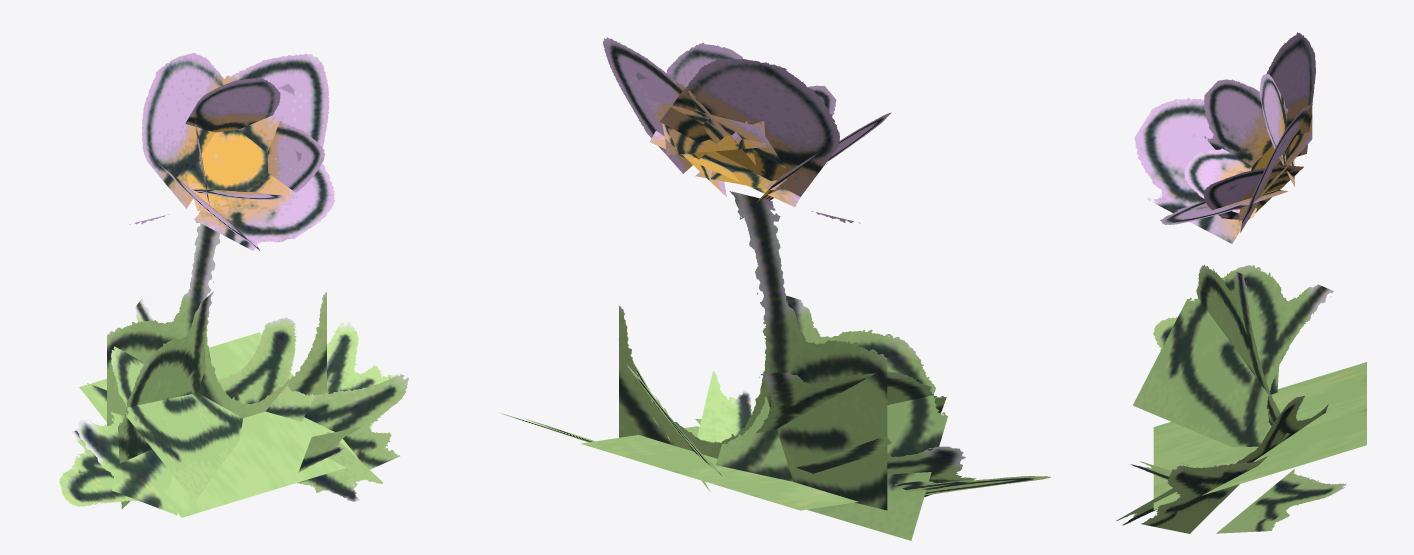
Rendered from testFlower.fbx.
3 renders of one model, left to right at view 1: azimuth 30°, elevation 25°; view 2: azimuth 150°, elevation 25°; view 3: azimuth 270°, elevation 25°, orthographic. The views are drawn at different scales.
Visible parts, largest first — view 1: Flower; view 2: Flower; view 3: Flower.
Boxes of the visible parts, x1,y1,x2,y2 form: Flower: (59, 53, 408, 517); Flower: (500, 37, 1050, 540); Flower: (1116, 32, 1366, 533).
Bounding box in the file's own units: 25.67 × 26.03 × 14.21.
